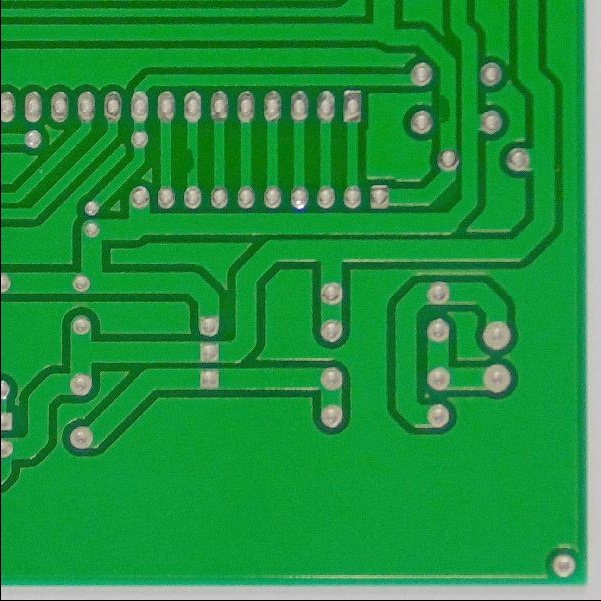mouse_bite: (432, 85, 461, 133), (179, 140, 202, 181)
